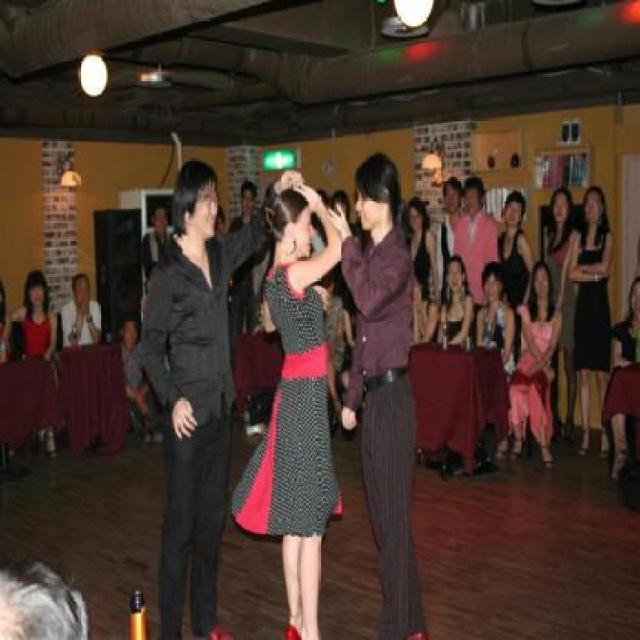Person: (137, 156, 303, 639), (229, 176, 343, 639), (324, 150, 418, 639), (432, 176, 536, 313), (567, 182, 616, 460), (518, 248, 564, 474), (543, 176, 577, 467), (8, 262, 58, 458), (478, 260, 518, 466), (0, 552, 92, 638), (612, 269, 639, 483), (118, 315, 164, 440), (224, 180, 261, 331), (400, 190, 446, 305), (408, 248, 448, 349), (440, 251, 478, 357), (138, 197, 176, 291), (59, 270, 102, 352), (0, 279, 14, 364)
